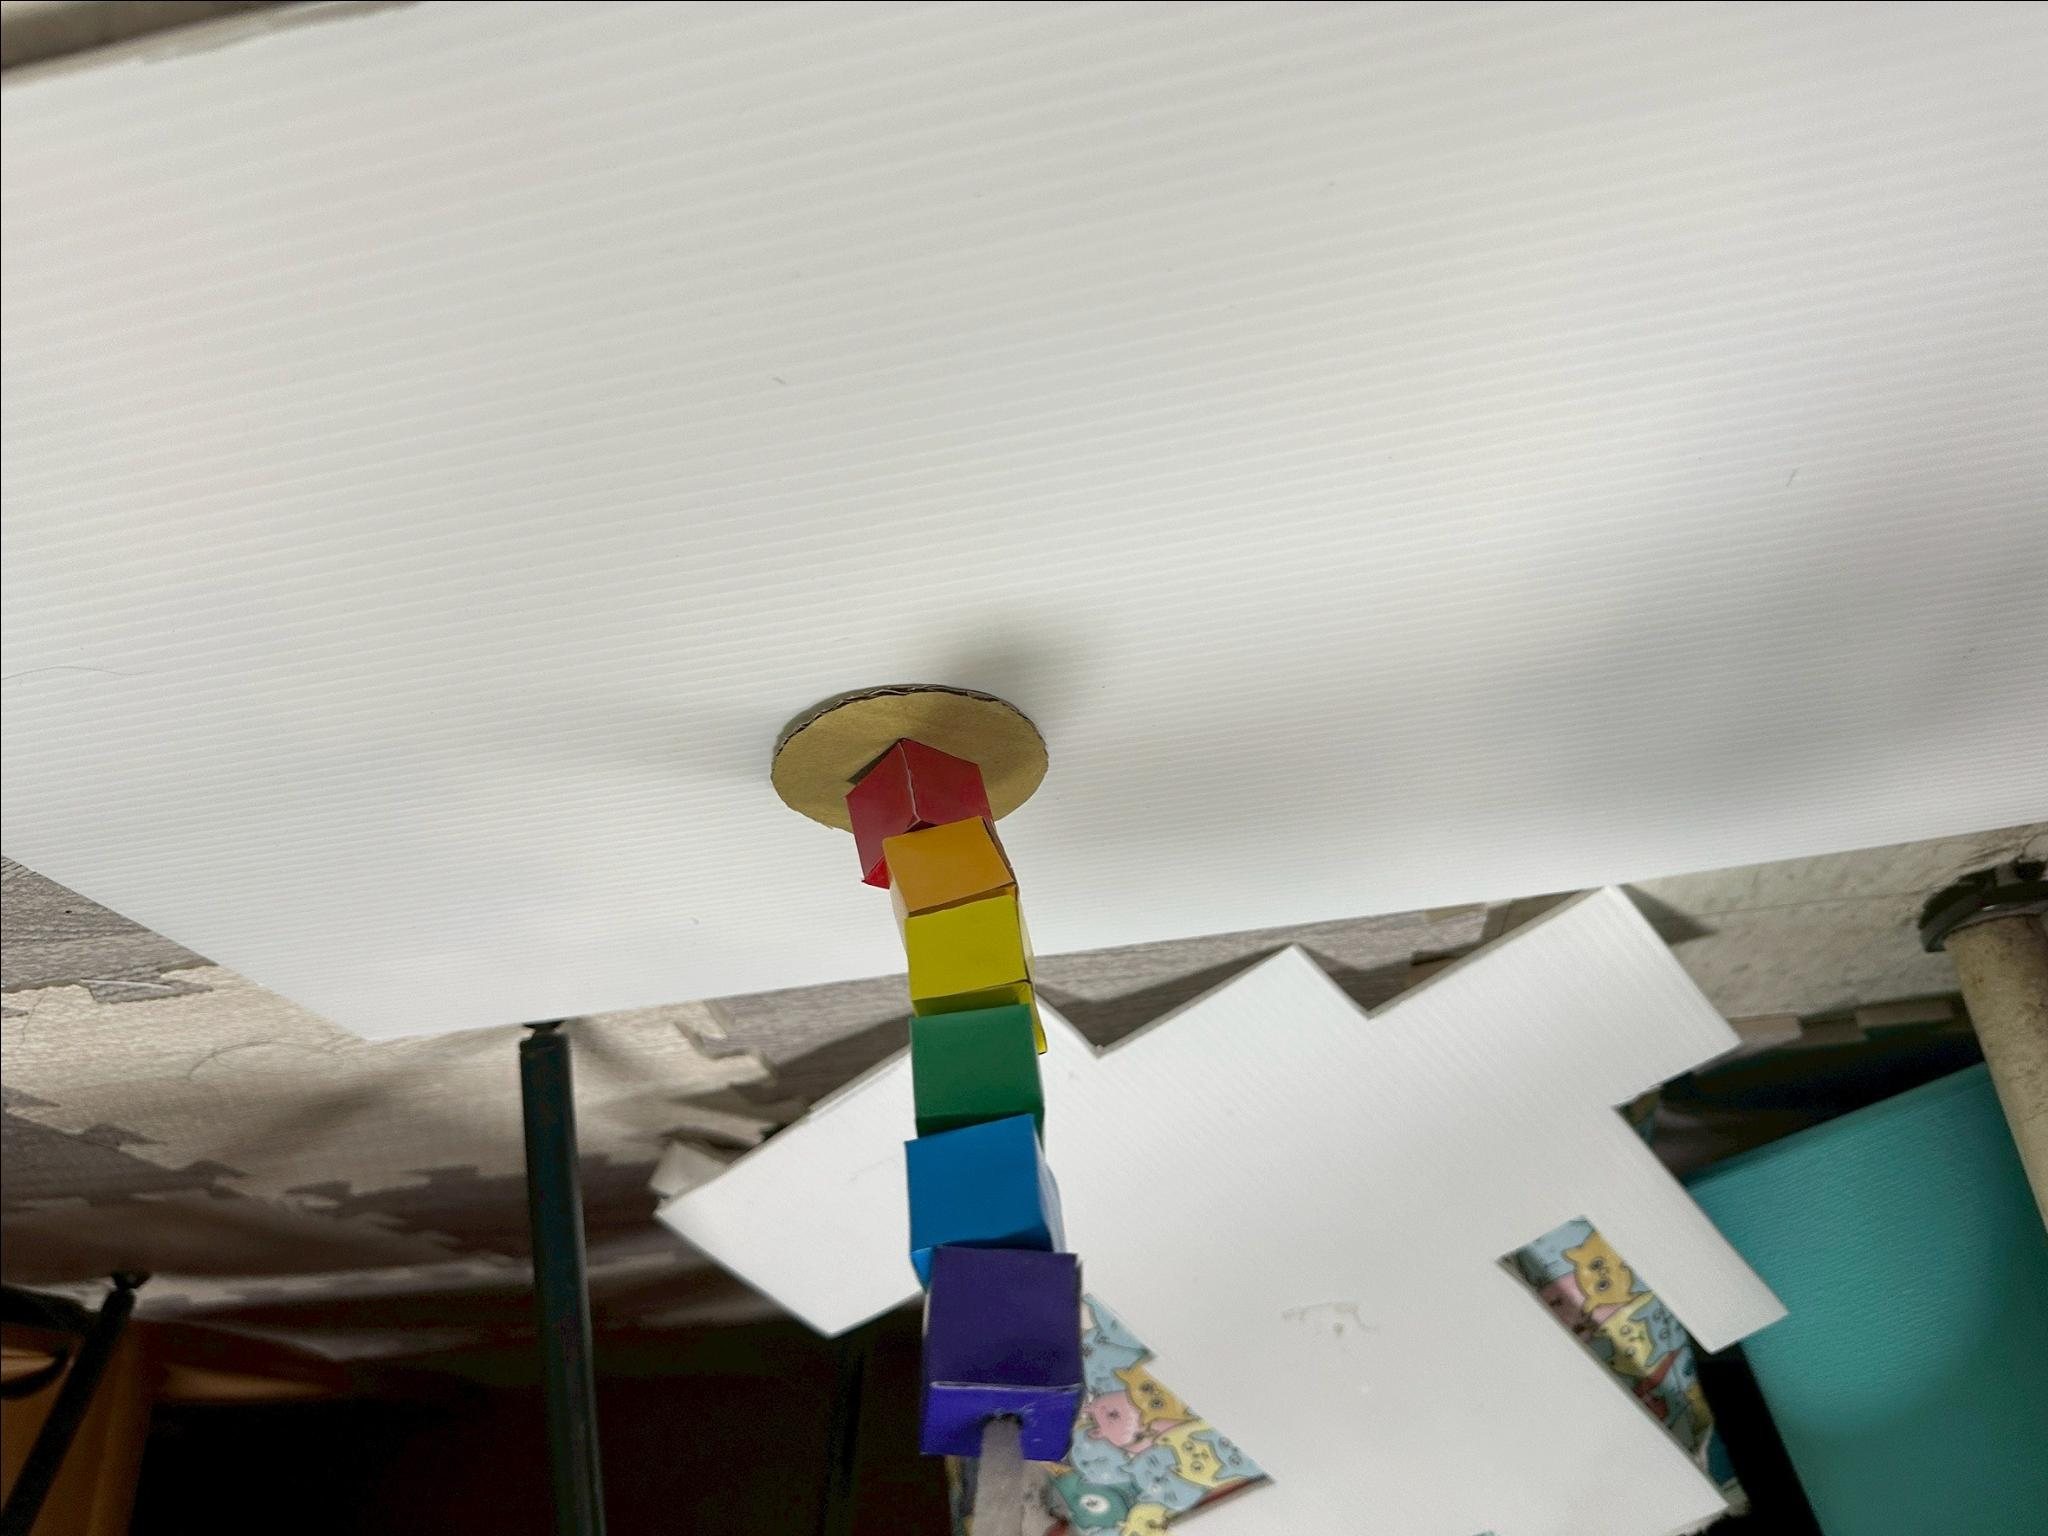base: (921, 1244, 1084, 1460), (905, 1115, 1061, 1286), (903, 889, 1045, 1052), (845, 737, 993, 886), (911, 1004, 1043, 1134), (885, 816, 1014, 913)
